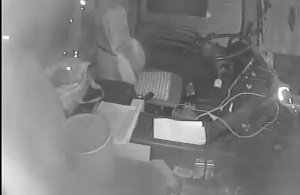paper: (152, 117, 206, 148)
